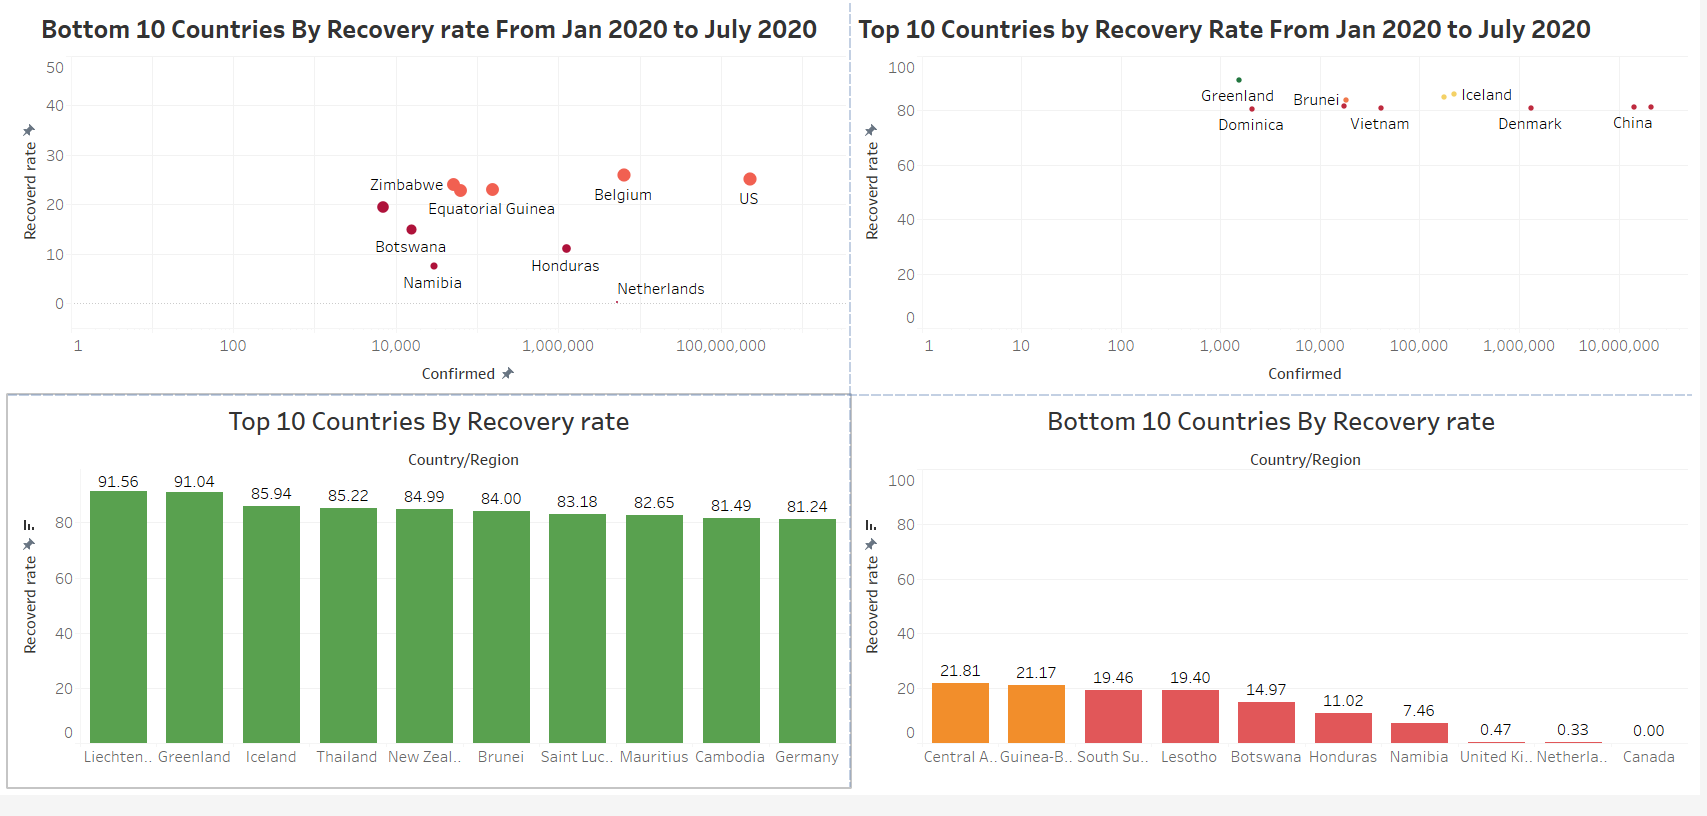

Layout of this report page (visuals, bound fields, positions):
{"tool":"tableau","page":{"name":"Recovery rate","canvas":[1700,800],"ordinal":0},"visuals":[{"type":"worksheet","title":"Sheet 5","mark":"Circle","rows":["Calculation_605734172620451842"],"cols":["Confirmed"],"box":[8,8,842,392]},{"type":"worksheet","title":"Sheet 8","mark":"Circle","rows":["Calculation_605734172620451842"],"cols":["Confirmed"],"box":[850,8,842,392]},{"type":"worksheet","title":"Sheet 6","mark":"Automatic","rows":["Calculation_605734172620451842"],"cols":["Country/Region"],"box":[8,400,842,392]},{"type":"worksheet","title":"Sheet 13","mark":"Automatic","rows":["Calculation_605734172620451842"],"cols":["Country/Region"],"box":[850,400,842,392]}]}

Visuals, with their boxes in screenshot pixels (x1, y1, x2, y2), scaled from the page's 1700x800 canvas onto the 1707x816 screenshot:
"Sheet 5" worksheet (Circle marks): 8/8/854/408
"Sheet 8" worksheet (Circle marks): 854/8/1699/408
"Sheet 6" worksheet: 8/408/854/808
"Sheet 13" worksheet: 854/408/1699/808
